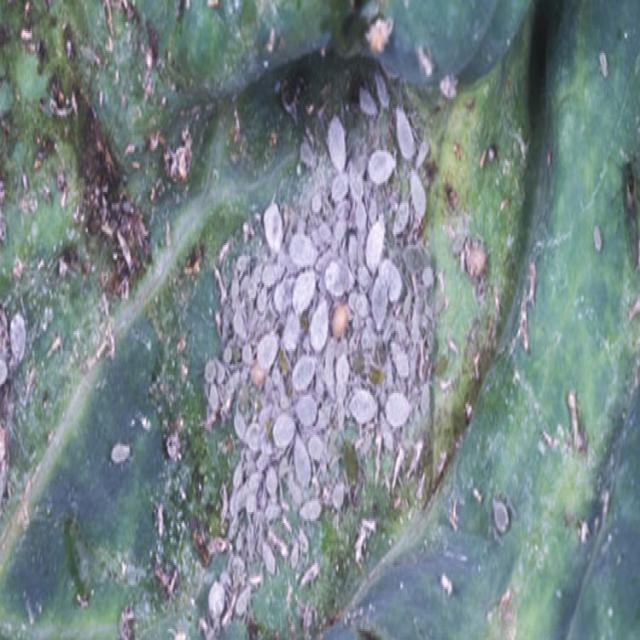Aphid-Grouped-: (218, 125, 420, 526)
